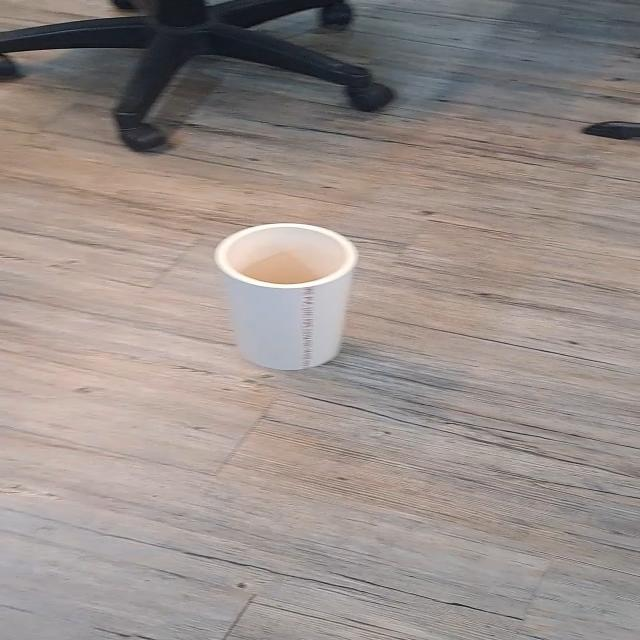CORAL: (208, 219, 374, 381)
